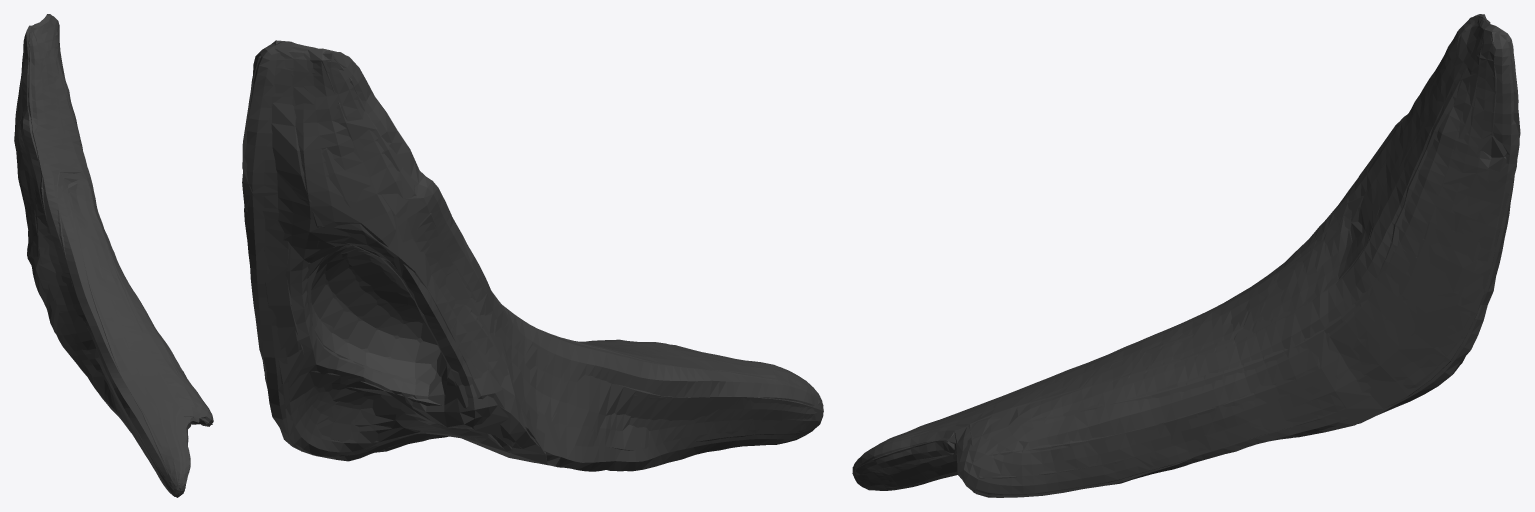
Rendered from Nasal_bone_R.glb.
The picture shows the model from 3 angles, left to right: view 1: azimuth 30°, elevation 25°; view 2: azimuth 150°, elevation 25°; view 3: azimuth 270°, elevation 25°; orthographic projection. The views are drawn at different scales.
Parts seen in each view (by area): view 1: Nasal_bone_R; view 2: Nasal_bone_R; view 3: Nasal_bone_R.
Part boxes in pixels (x1,y1,x2,y2): Nasal_bone_R: [14, 14, 213, 497]; Nasal_bone_R: [242, 40, 823, 471]; Nasal_bone_R: [852, 14, 1520, 497].
Size of the model in its own units: 56.52 by 192 by 226.
1 material, 1 textured.
